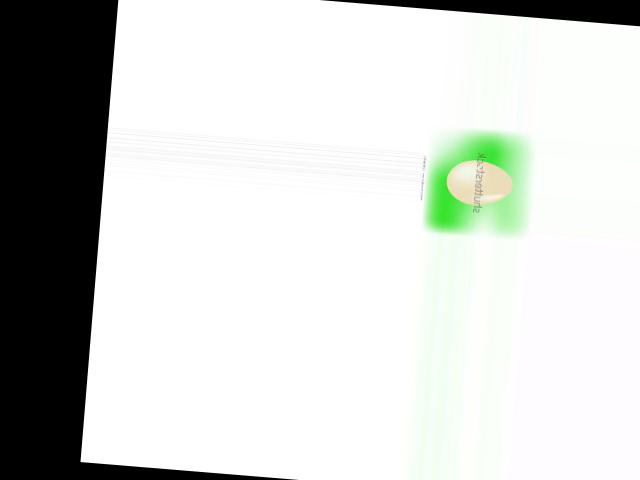egg: (445, 157, 514, 207)
